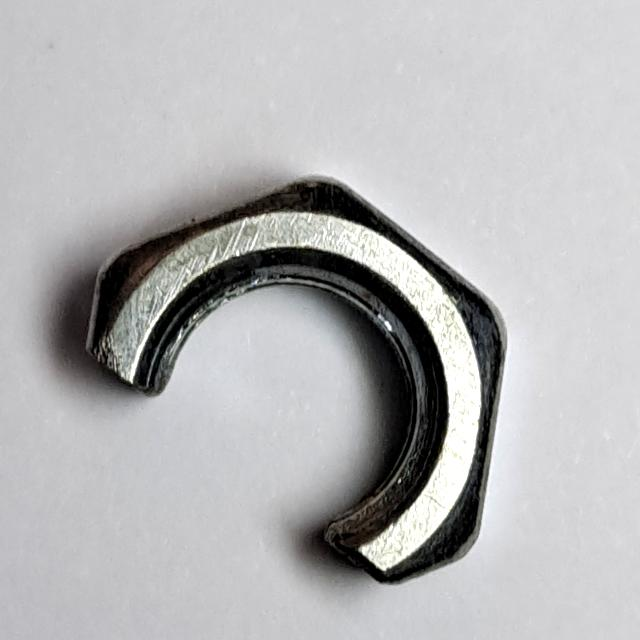Fracture: (76, 168, 514, 598)
